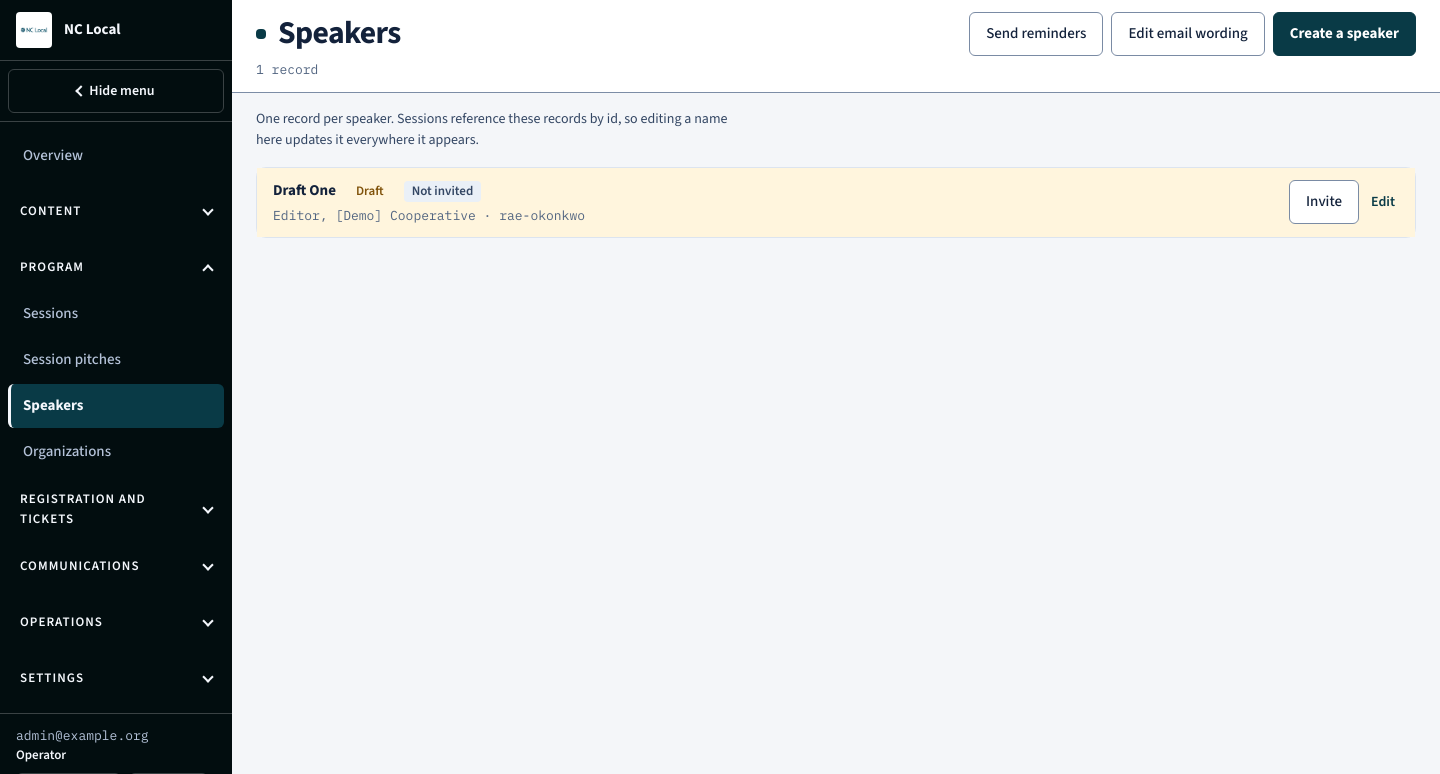
Test: invite actions › surfaces a refused transition verbatim
The image size is (1440, 774).
Click the button "Invite". click: [1324, 202]
box: left=1289, top=180, right=1359, bottom=224
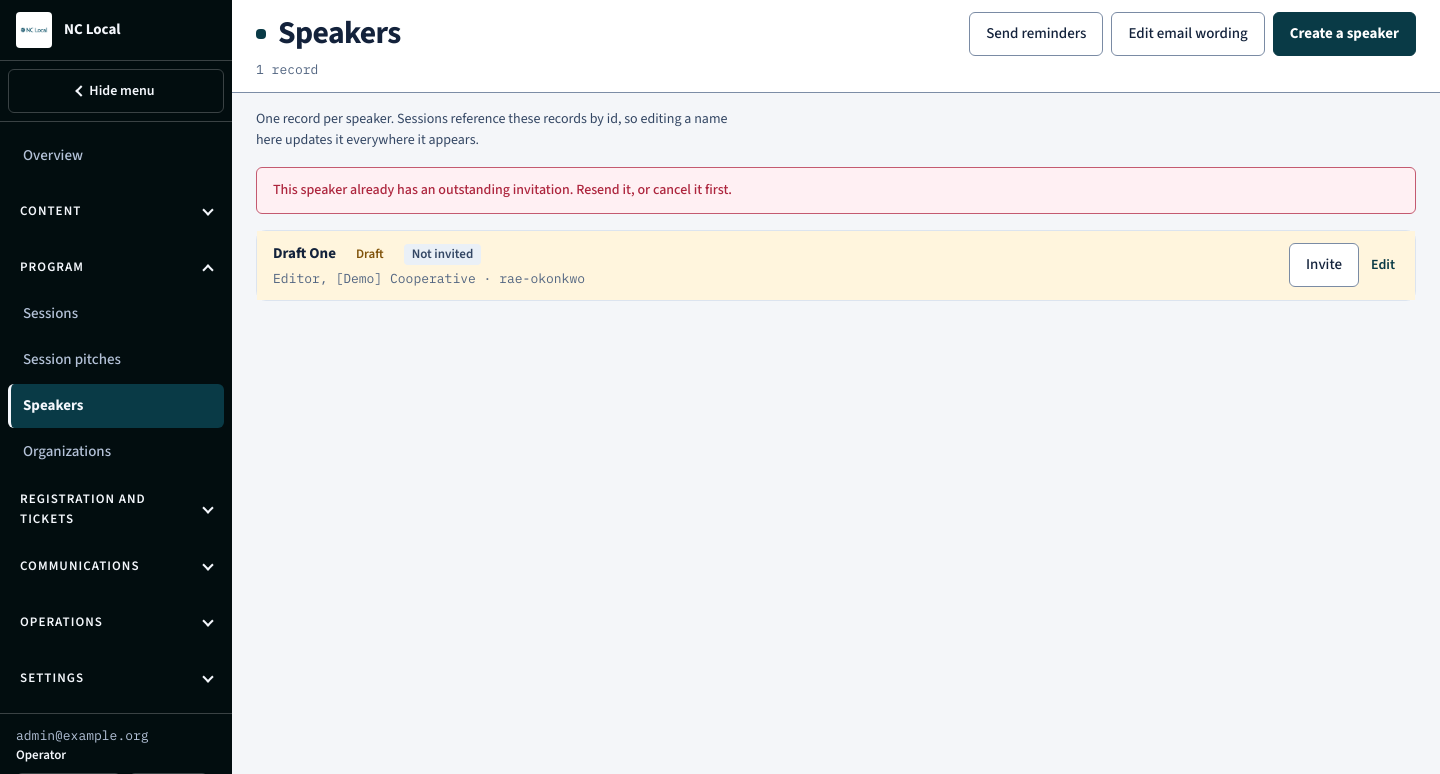
Check: the text "already has an outstanding invitation" is shown, box left=273, top=180, right=732, bottom=200
